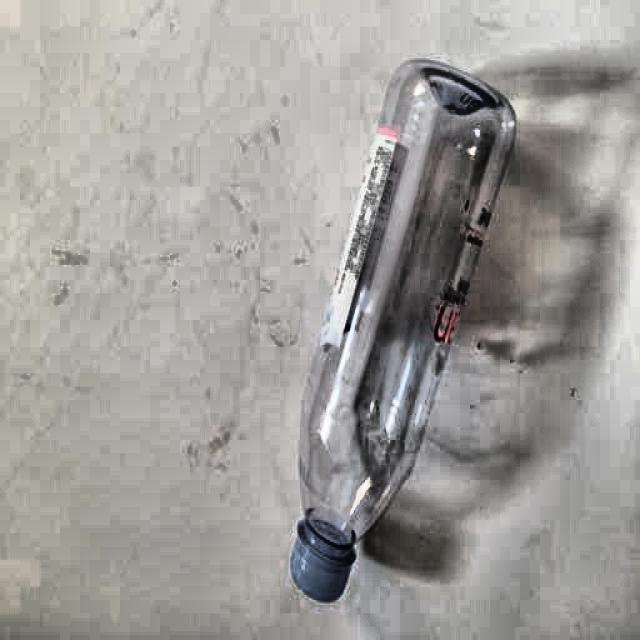plastic: (288, 54, 516, 606)
